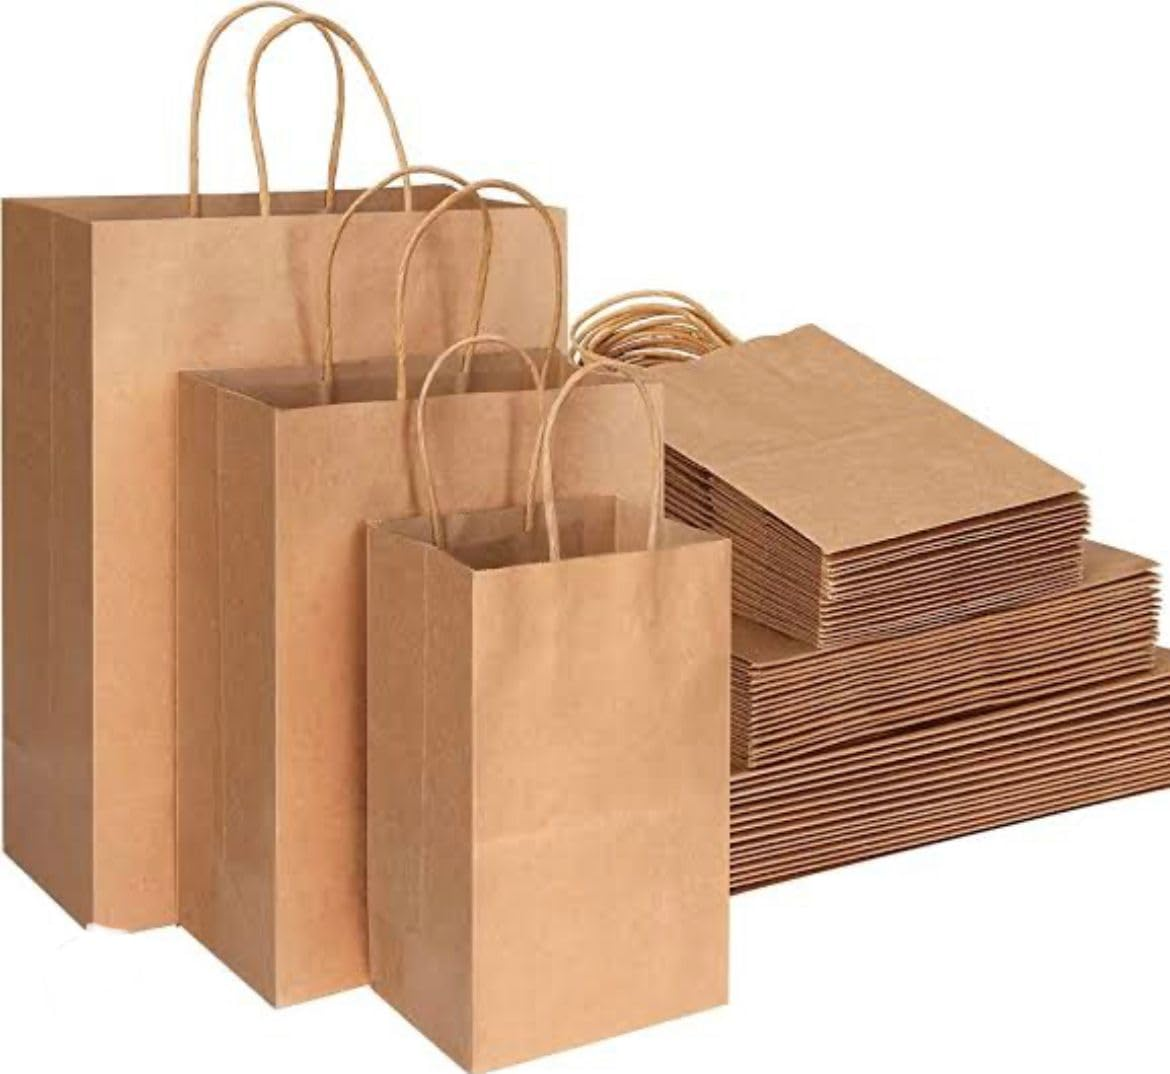carrybag: (191, 358, 695, 1034), (373, 520, 748, 1044)
